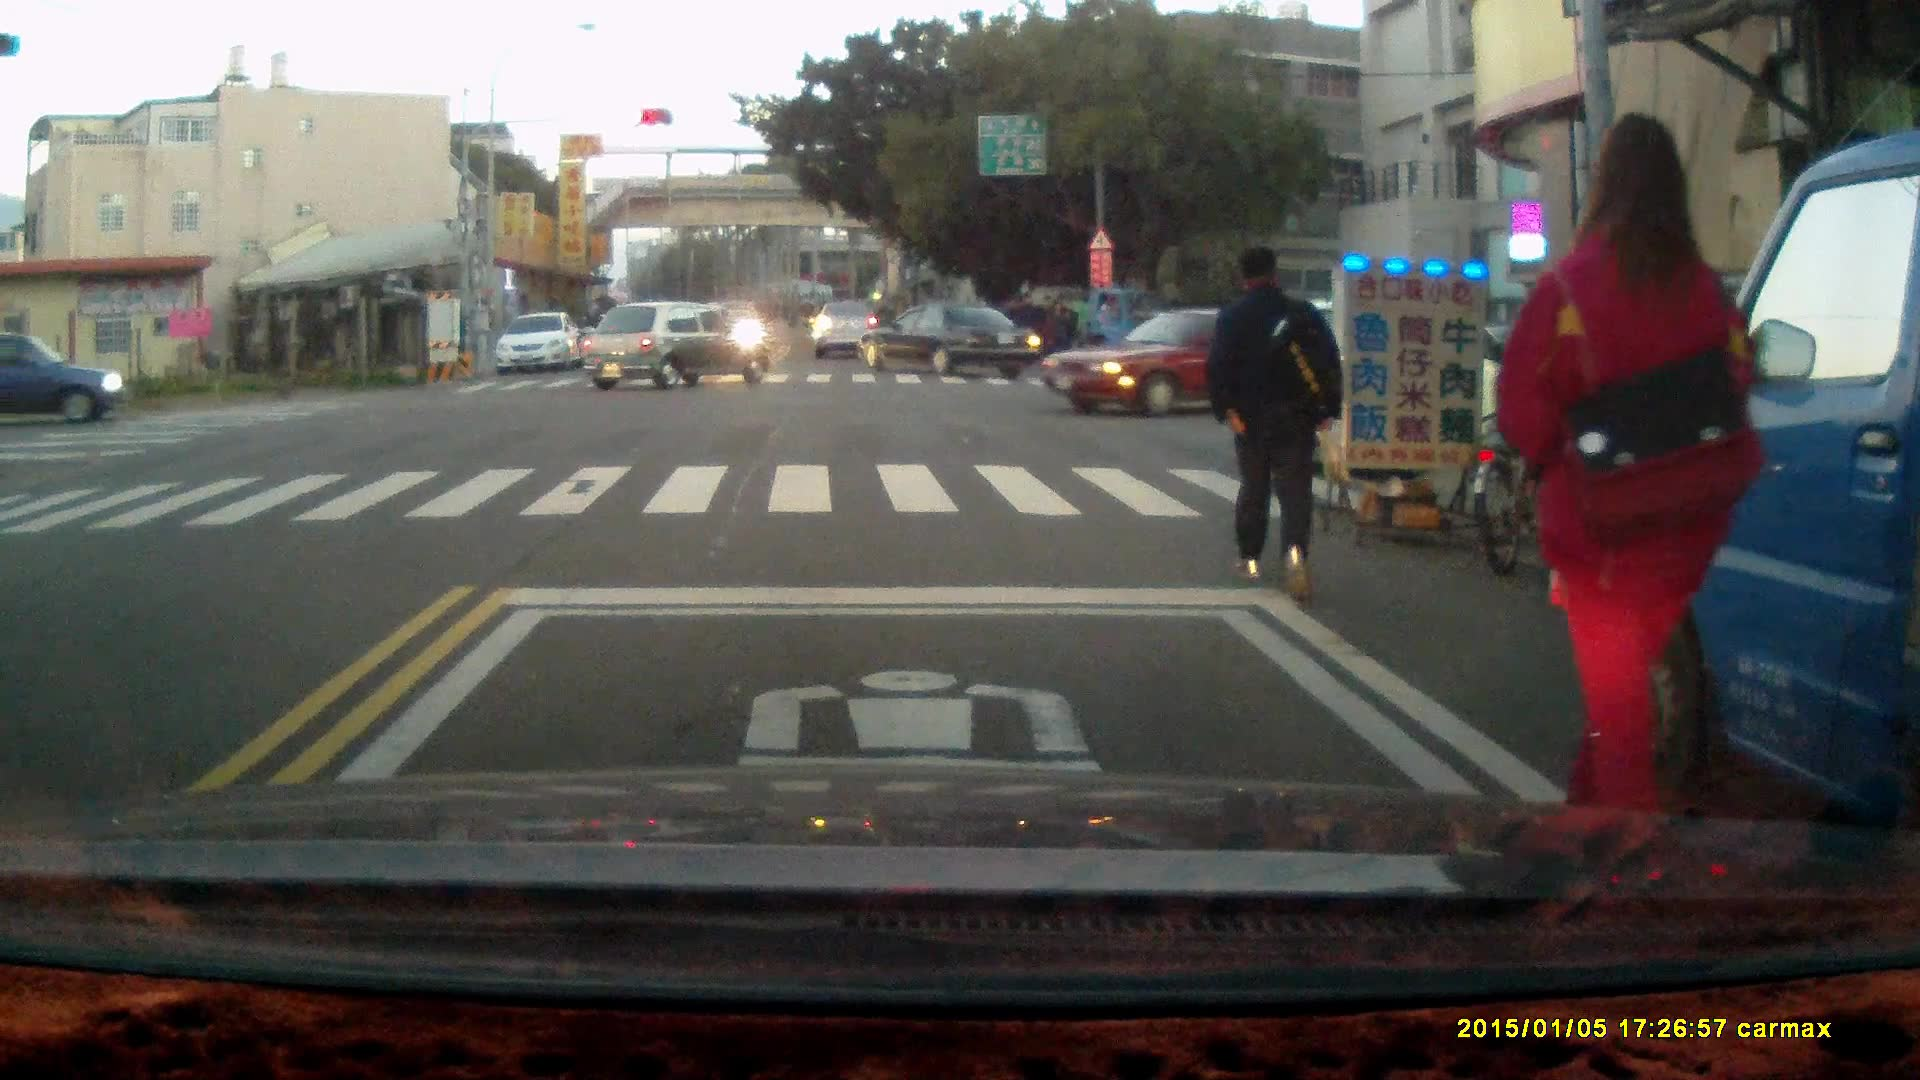pedestrian: (1491, 109, 1771, 844), (1199, 238, 1347, 594), (1009, 292, 1040, 371), (1049, 290, 1078, 368), (1045, 298, 1070, 364)
rider: (575, 302, 607, 369)
vehicle: (1598, 132, 1920, 855), (1233, 296, 1533, 459), (1034, 302, 1278, 414), (581, 302, 774, 394), (1002, 284, 1180, 367), (1, 331, 136, 429), (863, 303, 1037, 377), (498, 313, 586, 377), (811, 302, 886, 370)
